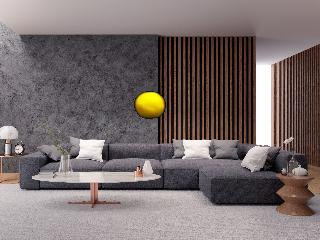lemon: (135, 92, 166, 119)
